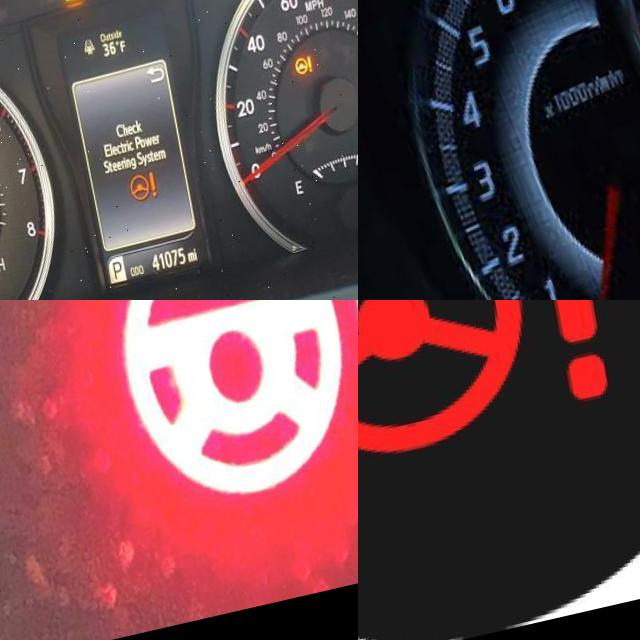Electronic Power Steering: (91, 300, 358, 527), (358, 300, 596, 490)
Electronic Power Steering Warning: (109, 183, 141, 218), (277, 78, 298, 101)
